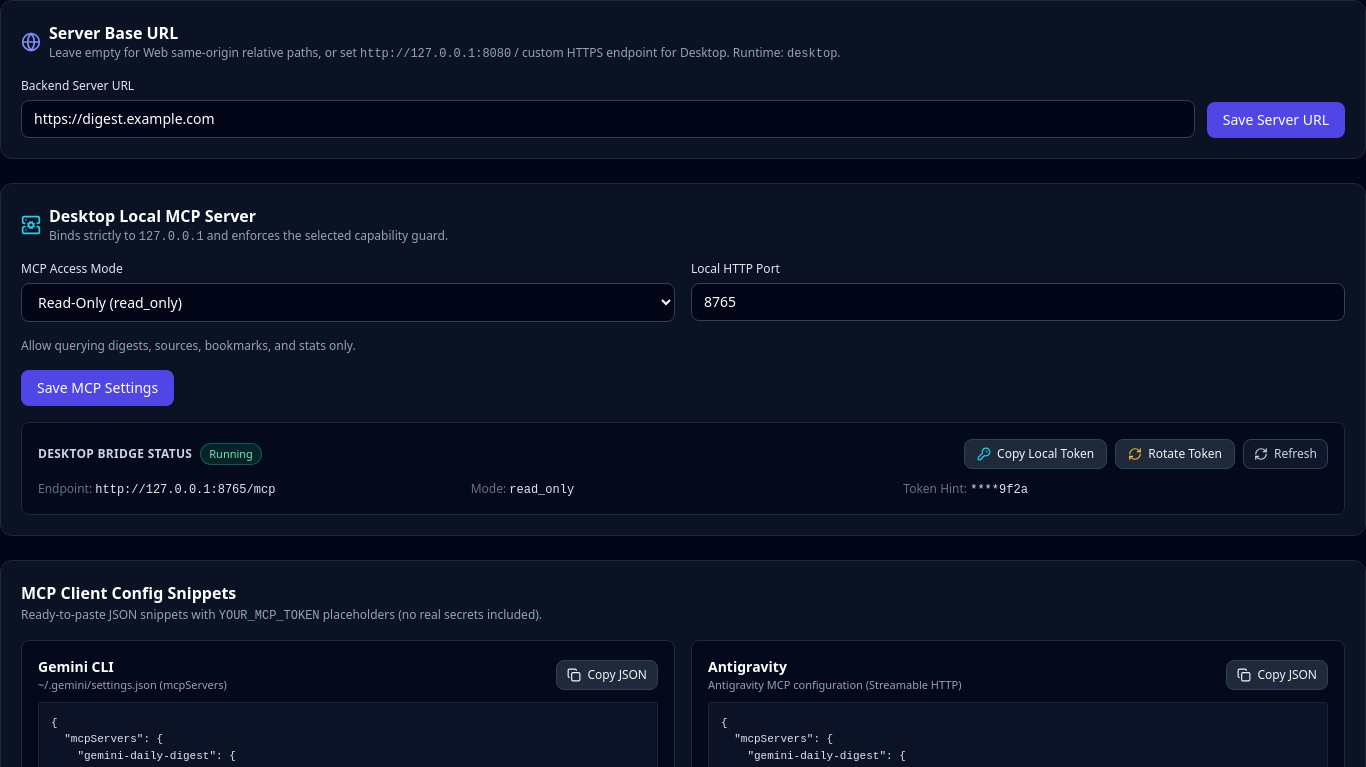
Test case: SettingsPage, all 5 Settings Panels, and App Integration › DesktopMcpPanel displays desktop bridge status, copies local token without rendering it, and rotates token
Expected: the text "Desktop Bridge Status" is shown, [38,446,192,462]
Expected: the text "Running" is shown, [200,443,262,465]
Click the button "Copy Local Token" at [1036, 454], box [964,439,1107,469]
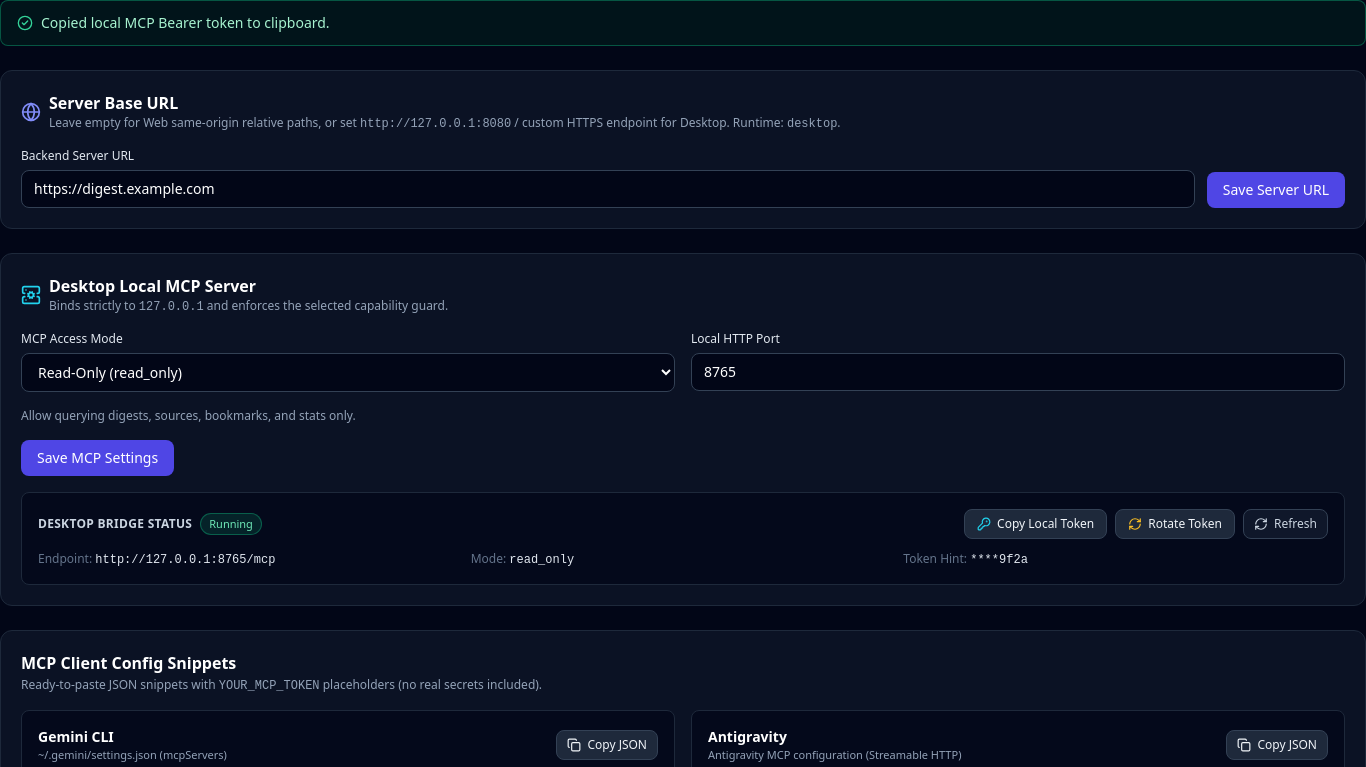
Result: the text "Copied local MCP Bearer token to clipboard." is shown at [41,13,330,33]
Click the button "Rotate Token" at [1175, 524], box [1115,509,1235,539]
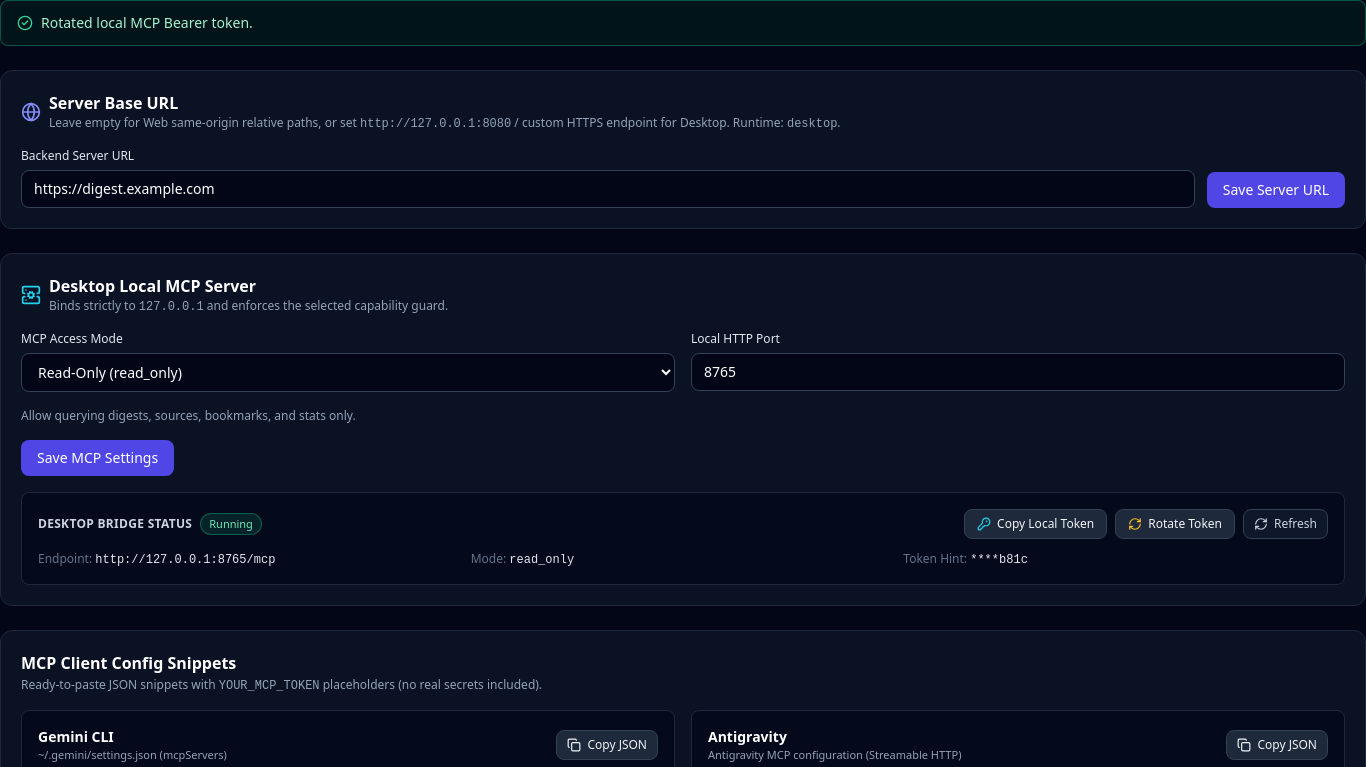
Result: the text "****b81c" is shown at [970,553,1028,567]
